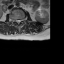CCS_normal: (17, 18, 19, 26)
LFS_normal: (21, 16, 23, 23)
LLS_normal: (19, 18, 21, 24)
RFS_normal: (13, 17, 15, 23)
RLS_stenosis: (15, 17, 17, 24)
